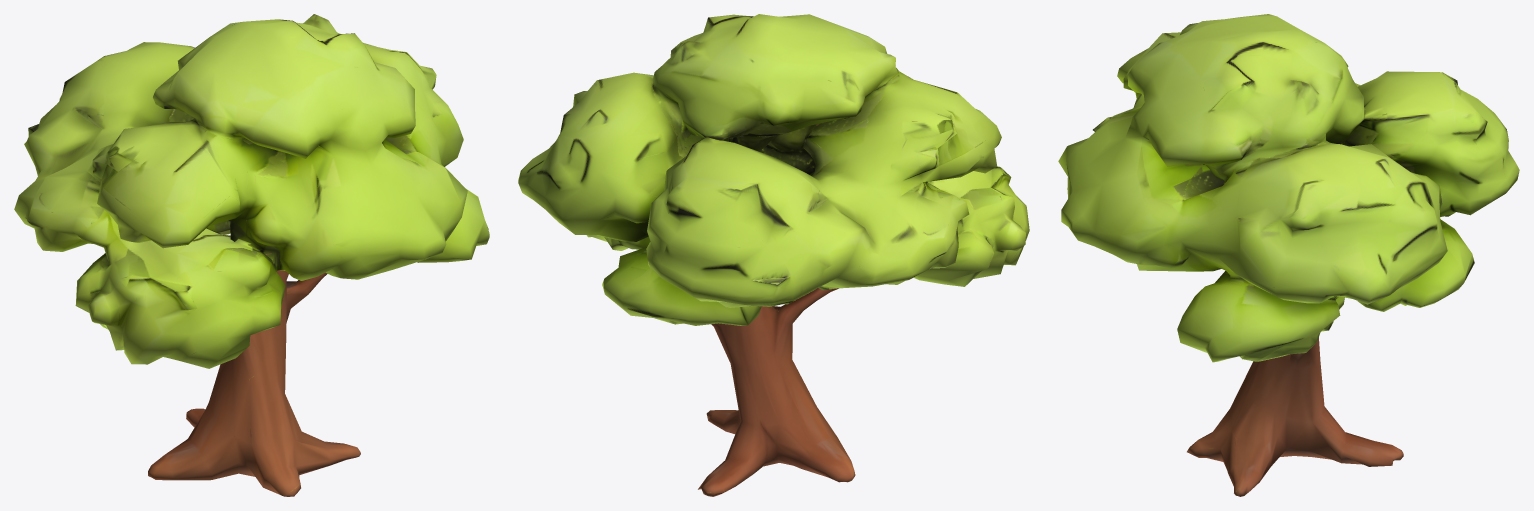
File: Meshy_AI_Verdant_Canopy_0117190503_texture.fbx
3 renders of one model, left to right at view 1: azimuth 30°, elevation 25°; view 2: azimuth 150°, elevation 25°; view 3: azimuth 270°, elevation 25°, orthographic. The views are drawn at different scales.
Parts seen in each view (by area): view 1: Mesh0; view 2: Mesh0; view 3: Mesh0.
Part boxes in pixels (x1,y1,x2,y2): Mesh0: (14, 14, 489, 496); Mesh0: (518, 14, 1029, 496); Mesh0: (1058, 14, 1519, 496).
Bounding box in the file's own units: 191 × 187 × 181.
1 material, 1 textured.
